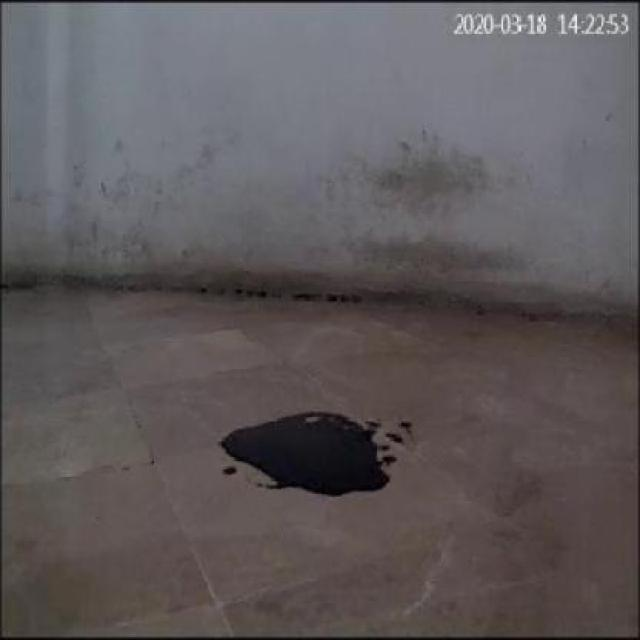spillage: (222, 408, 385, 498)
